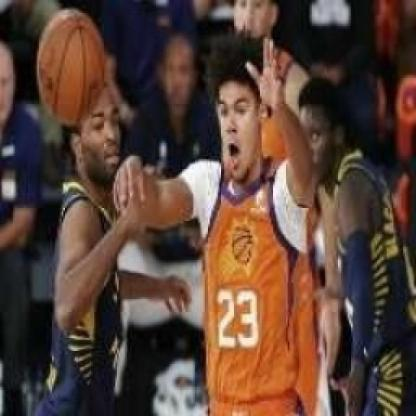basketball: (34, 5, 110, 128)
